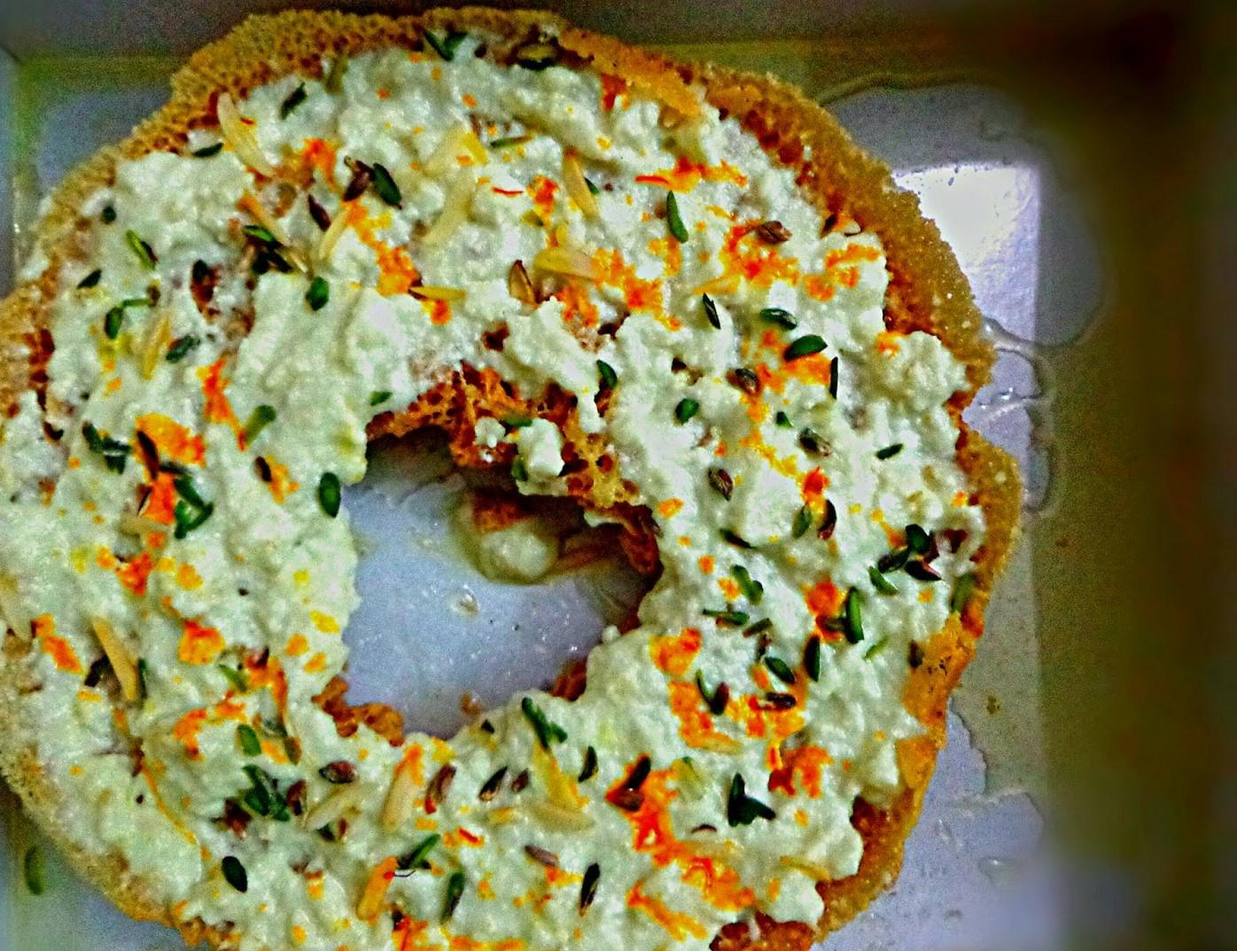Ghevar: (3, 2, 1026, 951)
